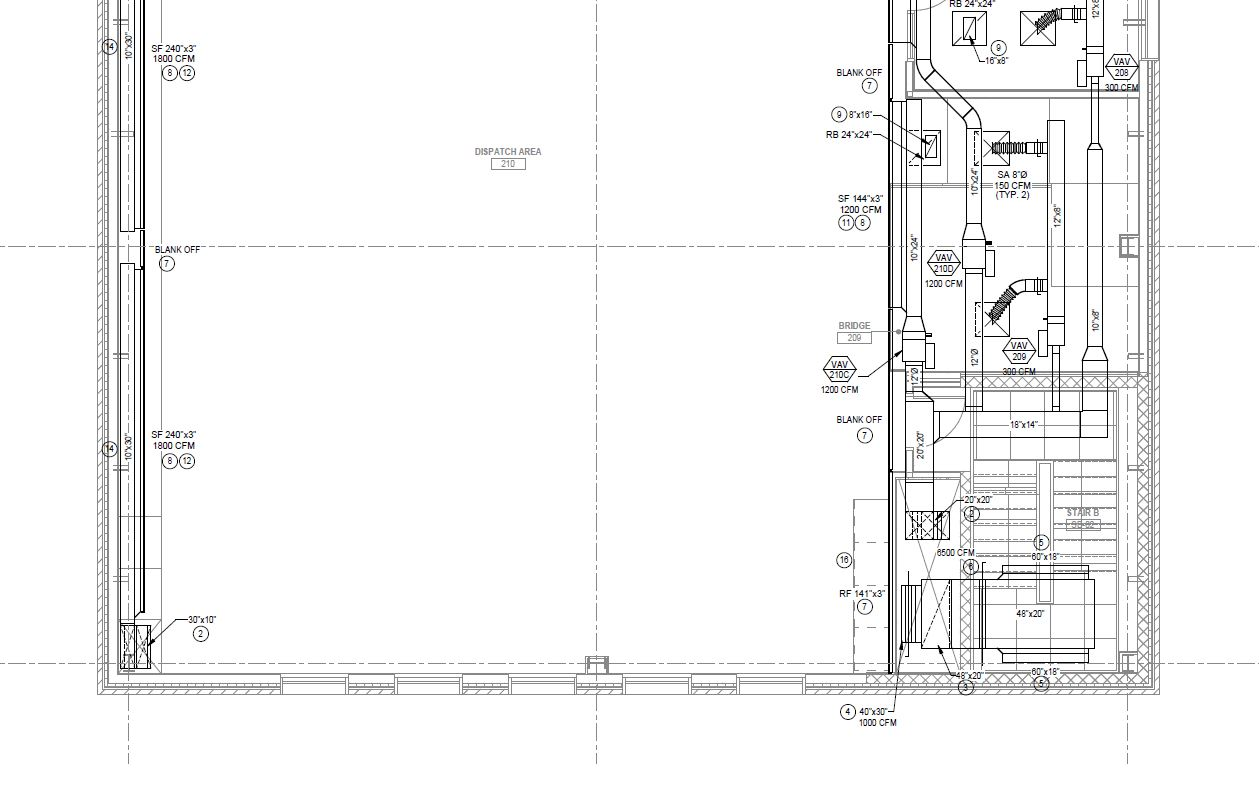VAV Box: (894, 304, 943, 375), (958, 218, 1001, 286), (1072, 36, 1111, 94), (1036, 308, 1070, 363)
